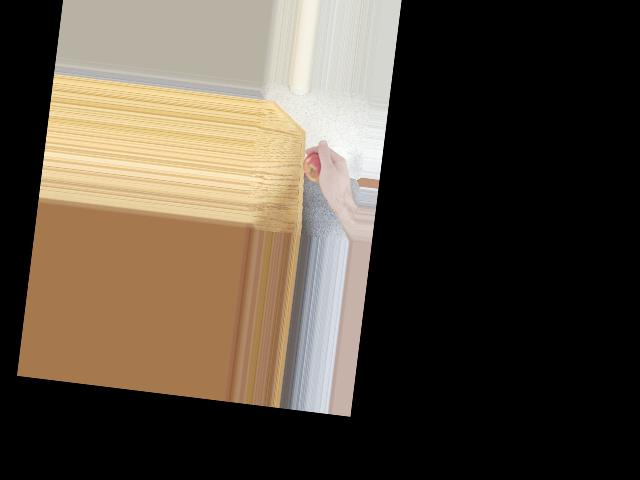apple: (300, 150, 332, 187)
